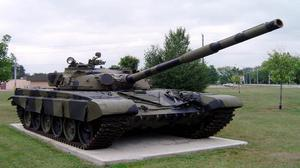t72: (12, 17, 282, 146)
